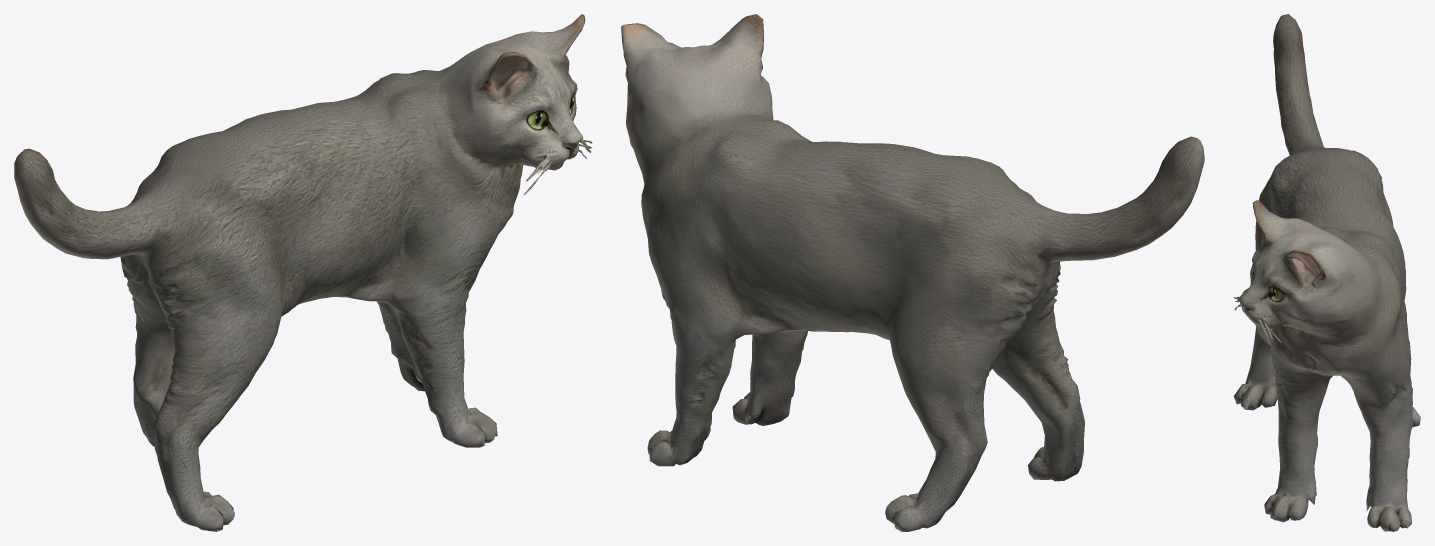
Rendered from LICHENPAW.glb.
The picture shows the model from 3 angles, left to right: view 1: azimuth 30°, elevation 25°; view 2: azimuth 150°, elevation 25°; view 3: azimuth 270°, elevation 25°; orthographic projection. The views are drawn at different scales.
Parts seen in each view (by area): view 1: tripo_node_aefab1c0-2735-4d73-b961-556b05ee8d3e; view 2: tripo_node_aefab1c0-2735-4d73-b961-556b05ee8d3e; view 3: tripo_node_aefab1c0-2735-4d73-b961-556b05ee8d3e.
Part boxes in pixels (<box>): tripo_node_aefab1c0-2735-4d73-b961-556b05ee8d3e: <box>14,14,592,531</box>; tripo_node_aefab1c0-2735-4d73-b961-556b05ee8d3e: <box>621,14,1204,531</box>; tripo_node_aefab1c0-2735-4d73-b961-556b05ee8d3e: <box>1233,14,1420,531</box>.
Size of the model in its own units: 1.53 by 1 by 0.523.
1 material, 1 textured.
